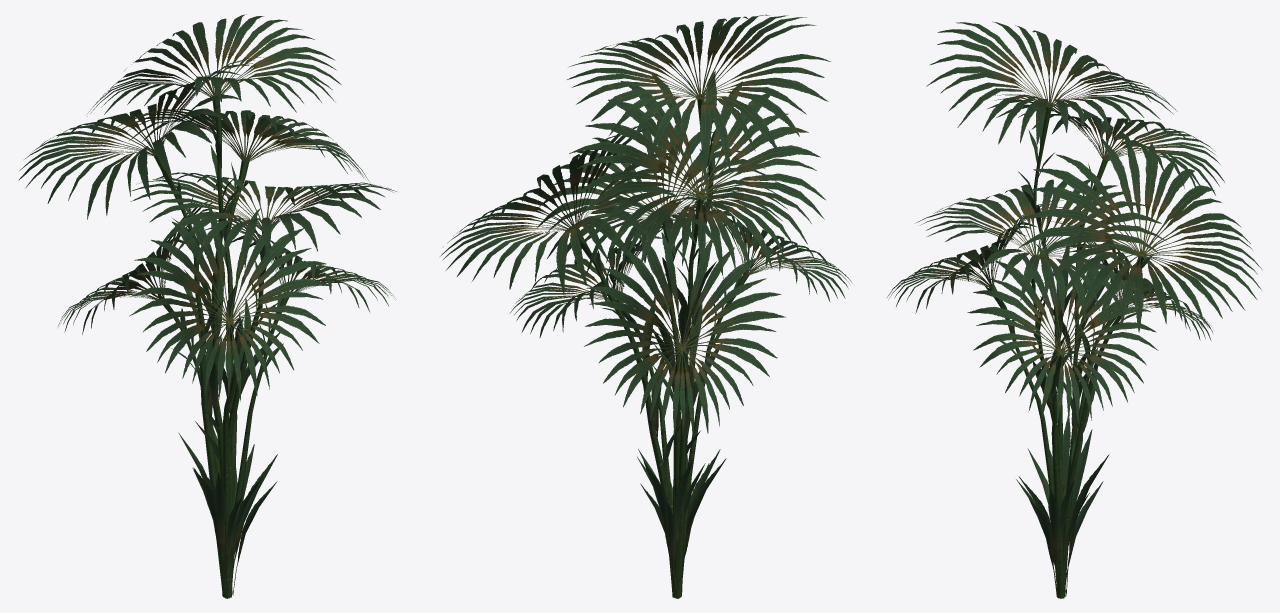
File: Plant1_2_L1.fbx
The picture shows the model from 3 angles, left to right: view 1: azimuth 30°, elevation 25°; view 2: azimuth 150°, elevation 25°; view 3: azimuth 270°, elevation 25°; orthographic projection. The views are drawn at different scales.
Parts seen in each view (by area): view 1: polySurface20; view 2: polySurface20; view 3: polySurface20.
Boxes of the visible parts, bbox=[...] form: polySurface20: bbox=[18, 14, 397, 598]; polySurface20: bbox=[440, 14, 851, 598]; polySurface20: bbox=[887, 21, 1262, 598].
Bounding box in the file's own units: 383 × 625 × 400.
